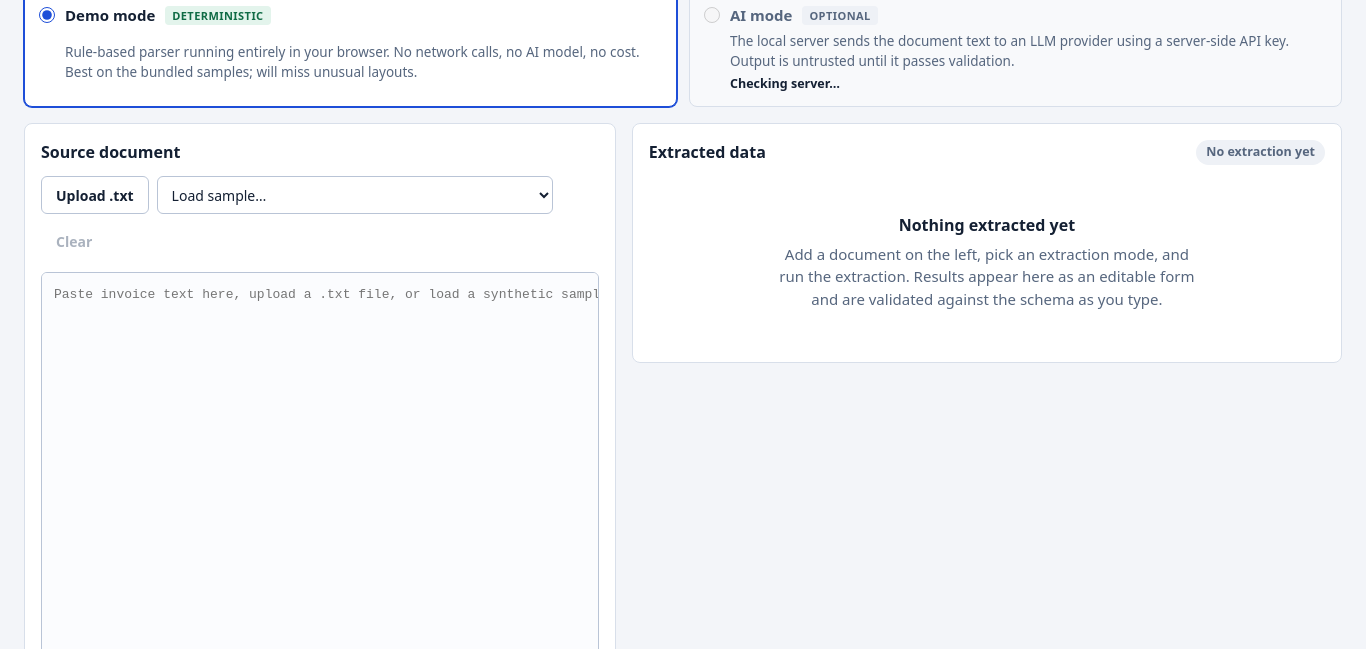
Test: App — demo mode › marks the extraction stale when the document is edited afterwards
Select "Clean invoice (pipe-delimited table)" in the dropdown named "load a synthetic sample" at {"x": 355, "y": 195}, box [157,176,553,214]
(page scrolled)
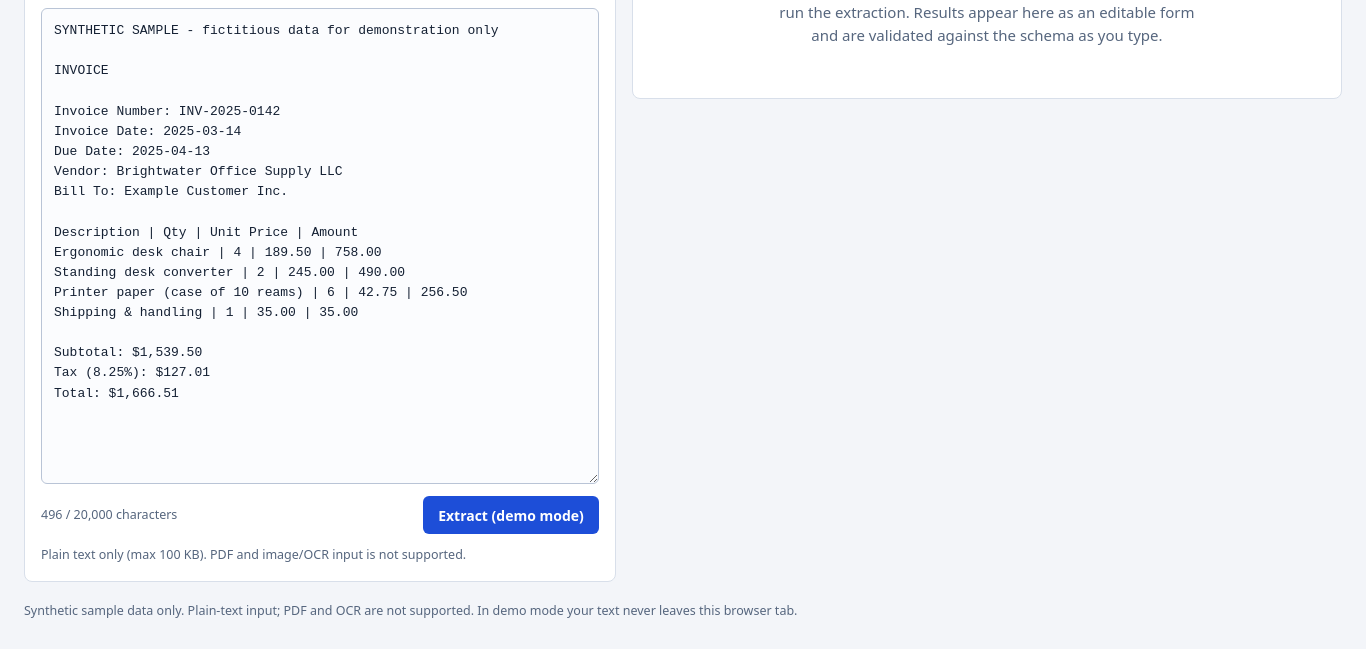
Click the button "Extract (demo mode)" at {"x": 511, "y": 515}, box [423,496,599,534]
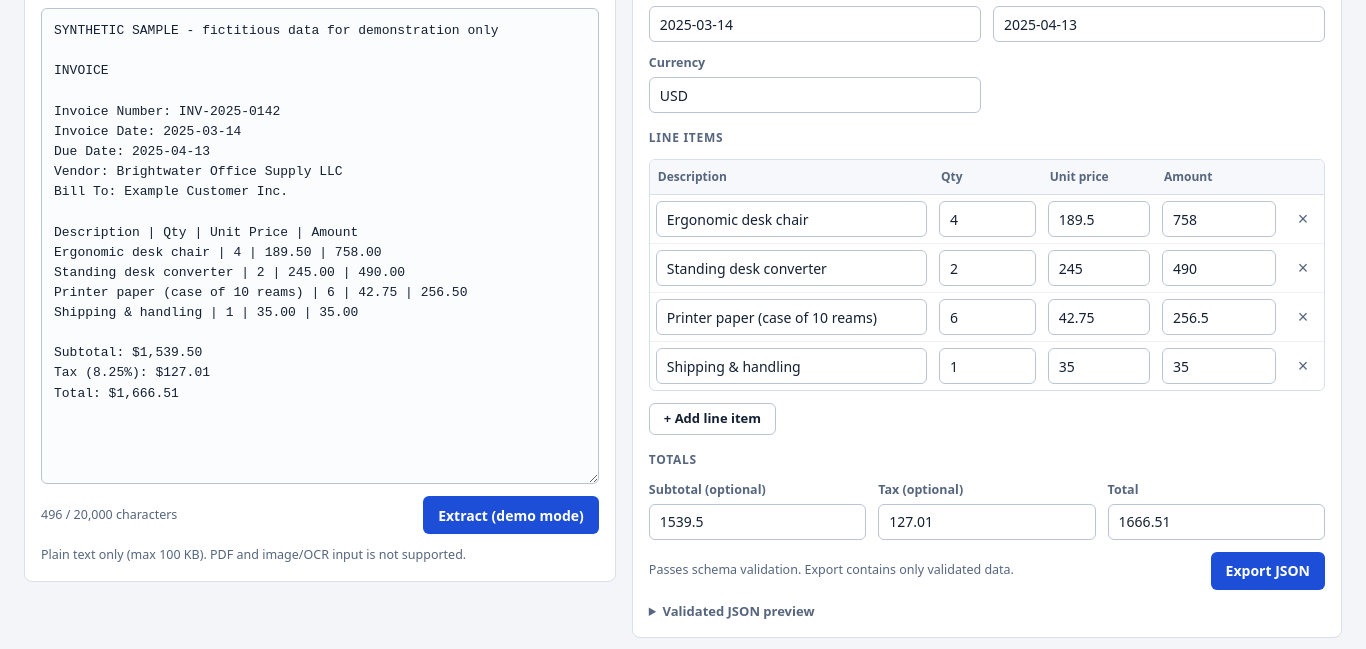
Replace the text in the text box named "document text" with "changed" at {"x": 320, "y": 246}, box [41,8,599,484]
(page scrolled)
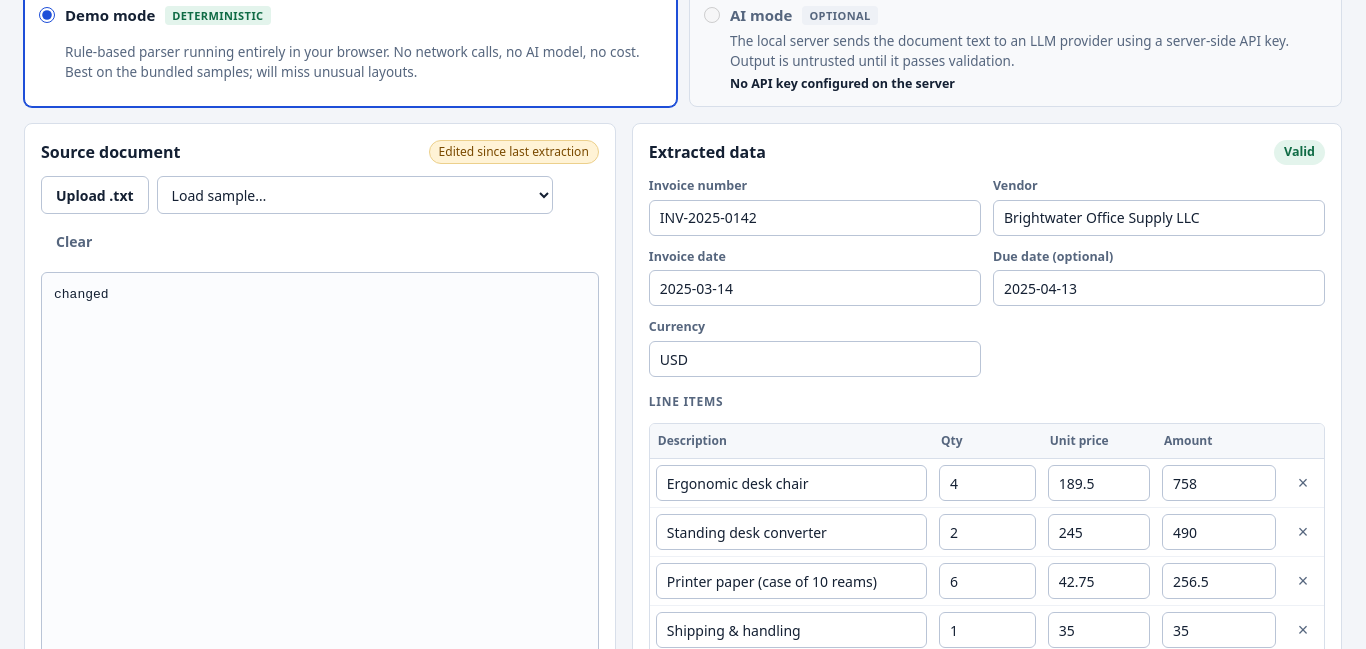
Result: the text "Edited since last extraction" is shown at [429,140,599,164]
